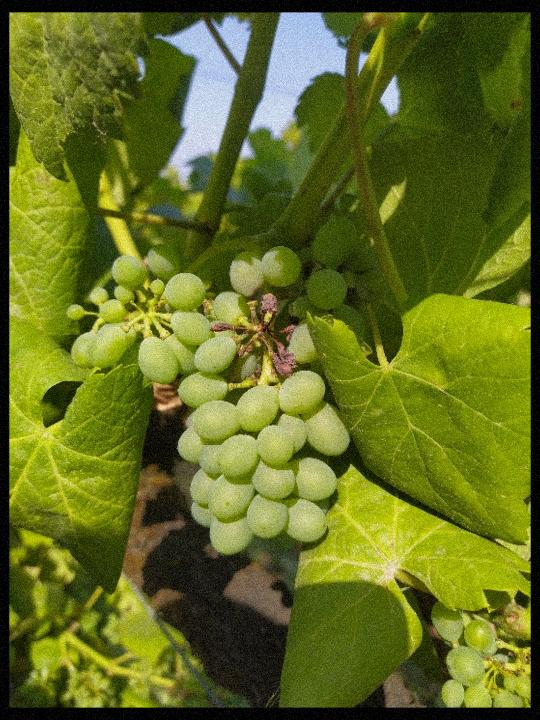grape: (58, 210, 391, 560), (424, 592, 529, 705)
